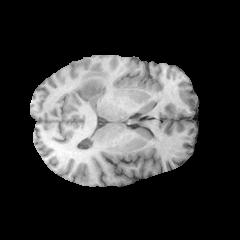glioma: (68, 64, 111, 99)
